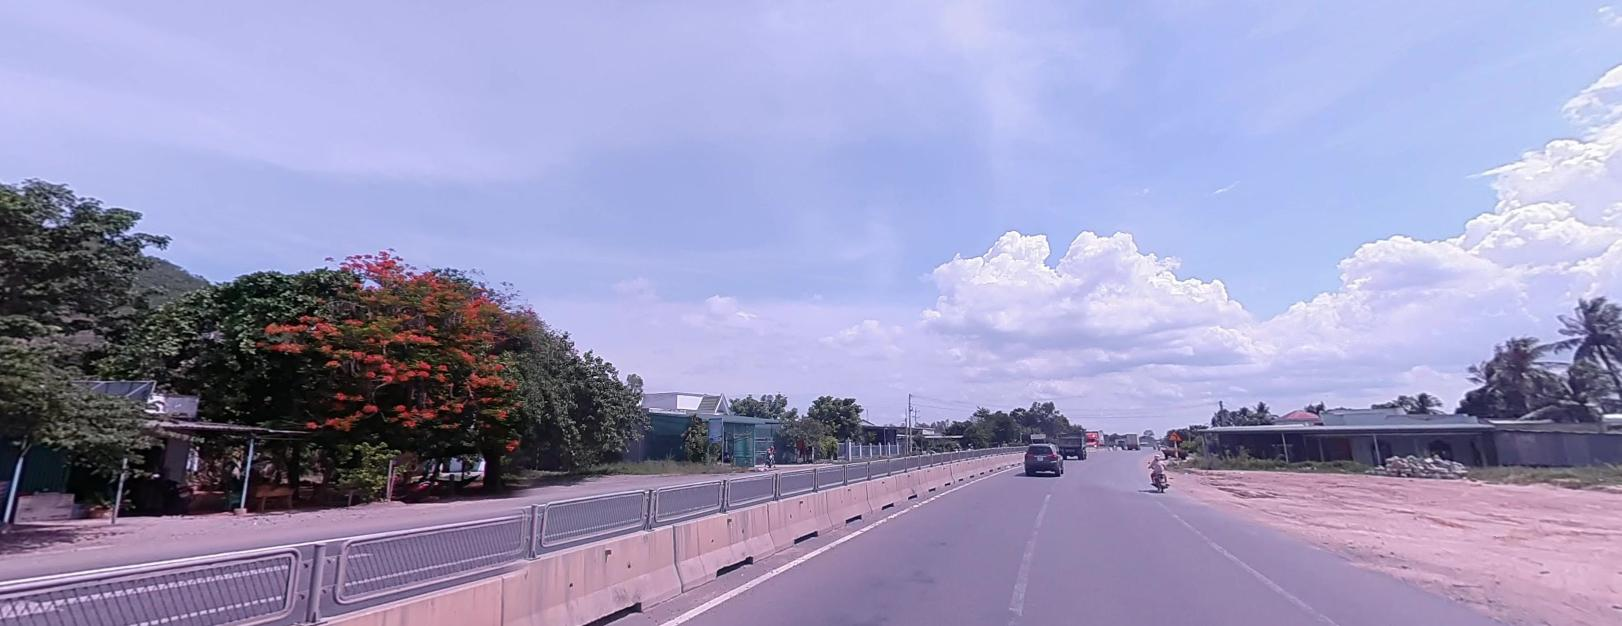Nguy hiem: (1168, 428, 1183, 439), (1168, 428, 1182, 439), (1168, 429, 1182, 440)
